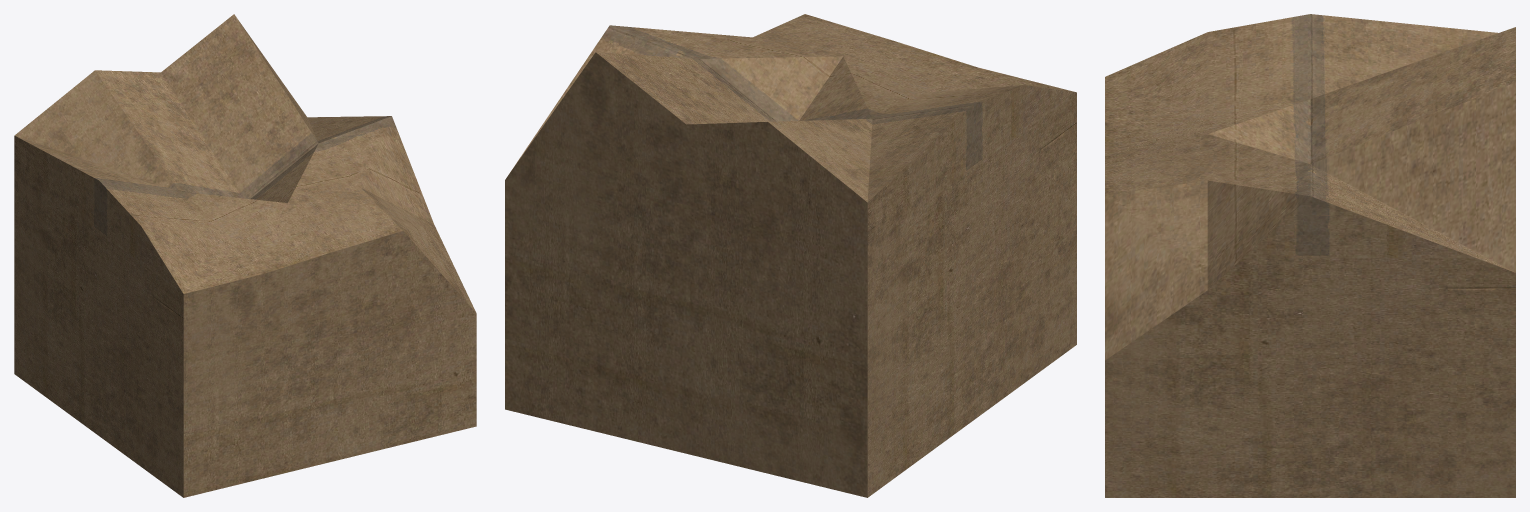
File: Prop_Box_02.fbx
3 renders of one model, left to right at view 1: azimuth 30°, elevation 25°; view 2: azimuth 150°, elevation 25°; view 3: azimuth 270°, elevation 25°, orthographic. The views are drawn at different scales.
Parts seen in each view (by area): view 1: Cube_026; view 2: Cube_026; view 3: Cube_026.
Part boxes in pixels (x1,y1,x2,y2): Cube_026: [14, 14, 476, 497]; Cube_026: [505, 14, 1076, 497]; Cube_026: [1105, 14, 1515, 497].
Size of the model in its own units: 2 by 2 by 2.
